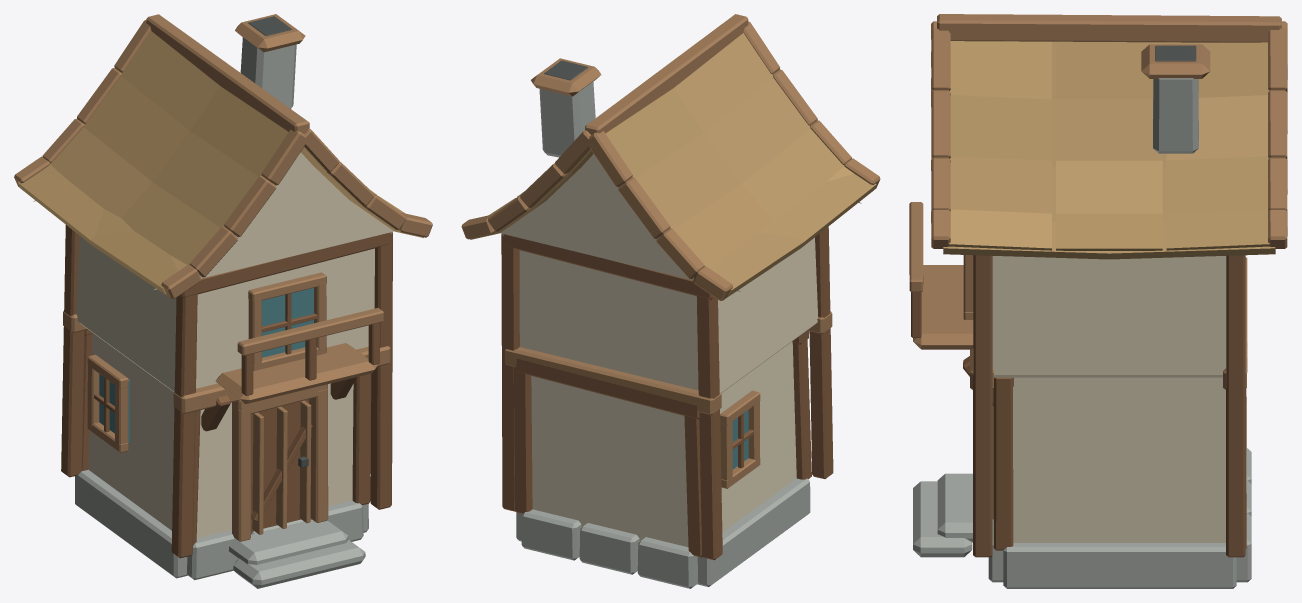
File: WallRush_Village_House_C.glb
The picture shows the model from 3 angles, left to right: view 1: azimuth 30°, elevation 25°; view 2: azimuth 150°, elevation 25°; view 3: azimuth 270°, elevation 25°; orthographic projection. The views are drawn at different scales.
Parts seen in each view (by area): view 1: Village_House_C_Village_WarmPlaster, Village_House_C_Village_TimberEdges, Village_House_C_Village_RoofOchre, Village_House_C_Village_Timber, Village_House_C_Village_PaleStone, Village_House_C_Village_WindowTeal, Village_House_C_Village_Iron; view 2: Village_House_C_Village_WarmPlaster, Village_House_C_Village_RoofOchre, Village_House_C_Village_Timber, Village_House_C_Village_TimberEdges, Village_House_C_Village_PaleStone; view 3: Village_House_C_Village_WarmPlaster, Village_House_C_Village_RoofOchre, Village_House_C_Village_TimberEdges, Village_House_C_Village_PaleStone, Village_House_C_Village_RoofOchre_Sunward, Village_House_C_Village_Timber, Village_House_C_Village_Iron.
Part boxes in pixels (box(x1,y1,x2,y2)): Village_House_C_Village_WarmPlaster: box(33, 152, 394, 538); Village_House_C_Village_TimberEdges: box(14, 14, 432, 541); Village_House_C_Village_RoofOchre: box(18, 31, 423, 294); Village_House_C_Village_Timber: box(61, 225, 392, 558); Village_House_C_Village_PaleStone: box(75, 37, 368, 588); Village_House_C_Village_WindowTeal: box(99, 288, 313, 442); Village_House_C_Village_Iron: box(248, 16, 308, 467); Village_House_C_Village_WarmPlaster: box(500, 154, 861, 546); Village_House_C_Village_RoofOchre: box(470, 33, 876, 295); Village_House_C_Village_Timber: box(501, 226, 833, 560); Village_House_C_Village_TimberEdges: box(461, 14, 880, 488); Village_House_C_Village_PaleStone: box(516, 81, 810, 588); Village_House_C_Village_WarmPlaster: box(992, 256, 1226, 542); Village_House_C_Village_RoofOchre: box(943, 41, 1275, 259); Village_House_C_Village_TimberEdges: box(909, 14, 1287, 519); Village_House_C_Village_PaleStone: box(913, 78, 1251, 588); Village_House_C_Village_RoofOchre_Sunward: box(948, 41, 1267, 250); Village_House_C_Village_Timber: box(911, 255, 1247, 557); Village_House_C_Village_Iron: box(1155, 45, 1196, 61).
Bounding box in the file's own units: 2.14 × 3.52 × 2.3.
